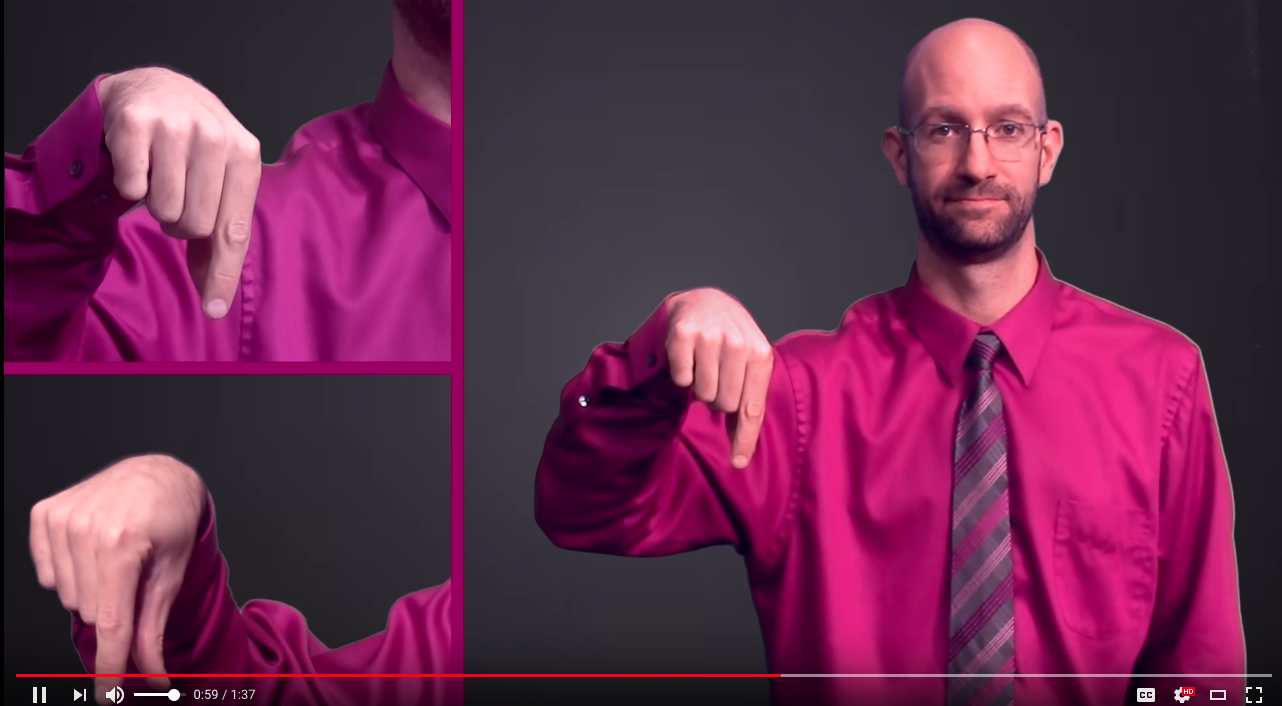q: (84, 57, 277, 331), (656, 274, 785, 490)
